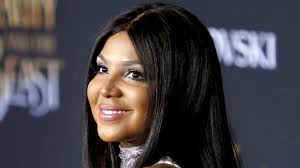black_female: (76, 1, 220, 149)
